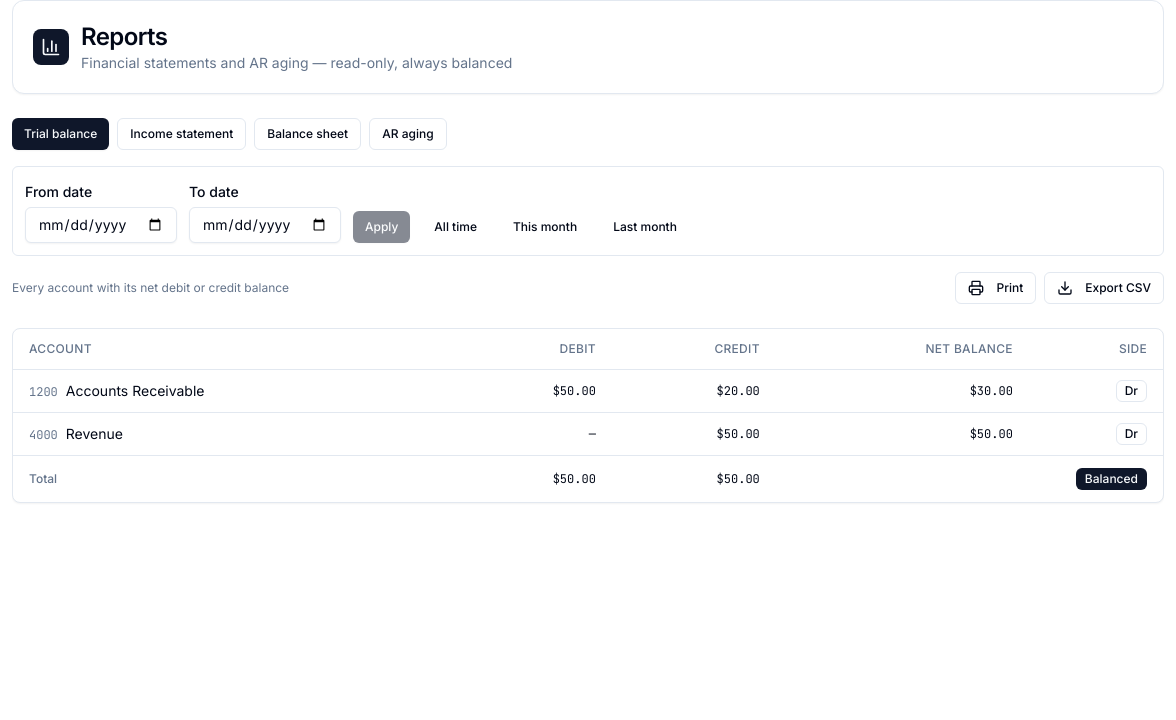
Test: ReportsView — AR aging (ACC-8/ACC-9) › renders open invoices under the current bucket with the outstanding total
This screenshot has width=1176, height=720.
What coordinates should you click on to do the following:
click the tab "AR aging"
I would click on:
 (408, 134)
Its box is [369,118,447,150].
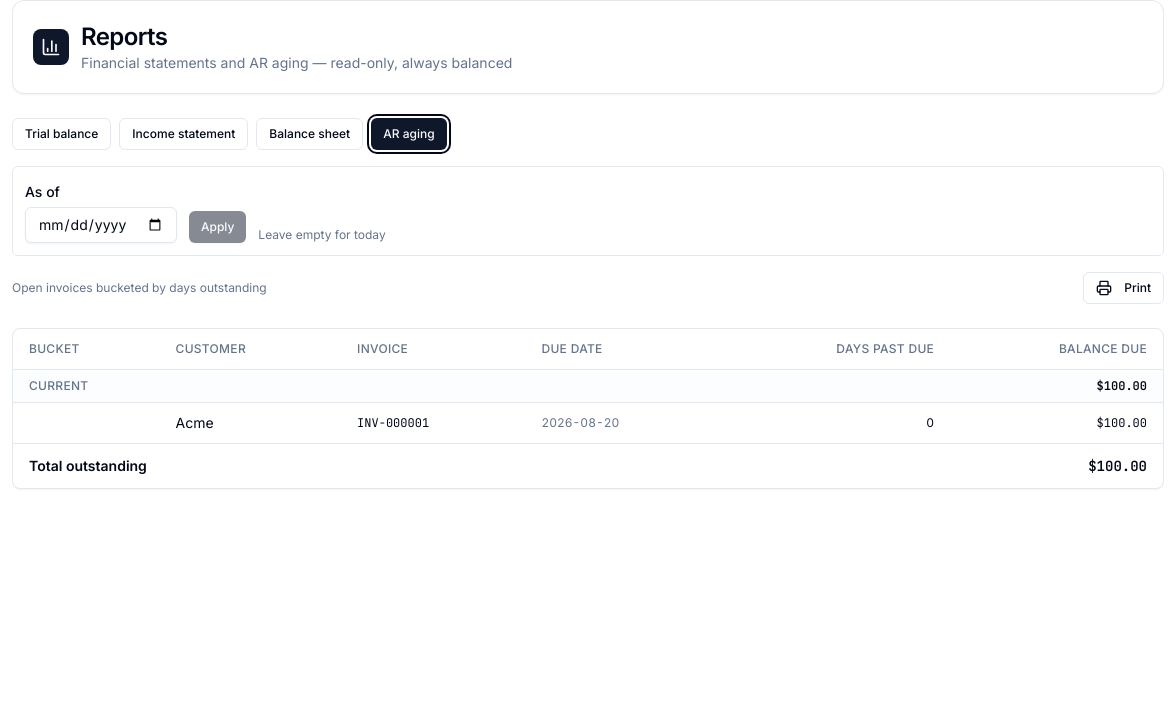
expect the text "Current" is shown: met, box [13,370,950,402]
expect the text "INV-000001" is shown: met, box [341,402,526,444]
expect the text "Acme" is shown: met, box [160,402,341,444]
